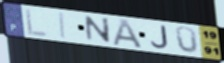0: (175, 26, 200, 55)
A: (112, 18, 145, 50)
I: (59, 11, 68, 41)
J: (149, 25, 170, 50)
L: (24, 8, 49, 38)
N: (84, 15, 113, 45)
